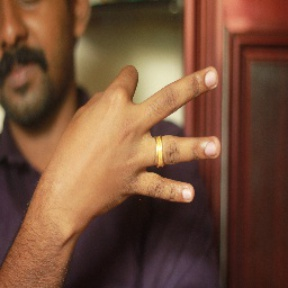K: (62, 67, 218, 210)
